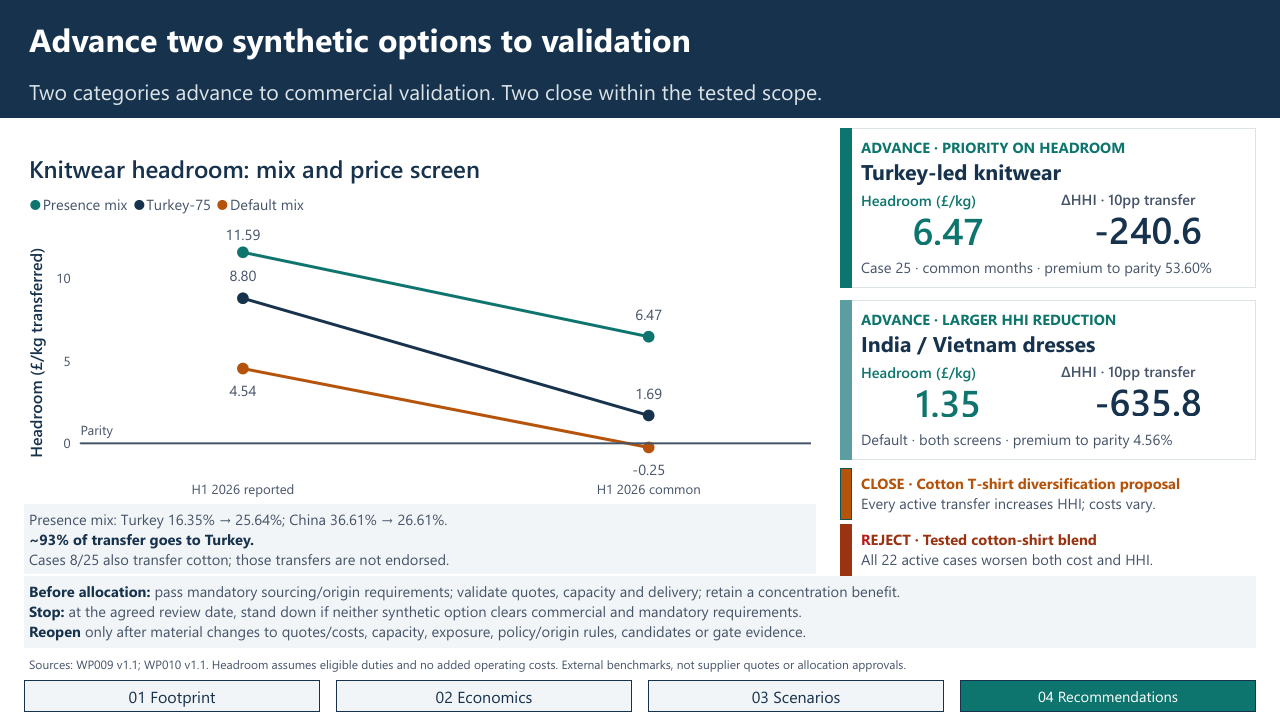

Layout of this report page (visuals, bound fields, positions):
{"tool":"powerbi","page":{"name":"04 Recommendations","canvas":[1280,720],"ordinal":4},"visuals":[{"type":"shape","box":[0,0,1280,118],"z":0},{"type":"shape","box":[840,300,416,160],"z":1000},{"type":"shape","box":[840,128,416,160],"z":2000},{"type":"textbox","box":[24,12,1232,60],"z":3000},{"type":"textbox","box":[24,72,1232.3,40],"z":4000},{"type":"pageNavigator","box":[24,680,1232,32],"z":5000},{"type":"card","title":"Headroom (£/kg)","fields":{"Values":["FactHeadroom.Headroom GBP per kg"]},"box":[856,190,184,60],"z":6000},{"type":"card","title":"Headroom (£/kg)","fields":{"Values":["FactHeadroom.Headroom GBP per kg"]},"box":[856,362,184,60],"z":7000},{"type":"textbox","box":[24,648,1232,30],"z":8000},{"type":"lineChart","title":"Knitwear headroom: mix and price screen","fields":{"Category":["FactHeadroom.Price basis"],"Y":["FactHeadroom.Knitwear Headroom Presence","FactHeadroom.Knitwear Headroom Turkey75","FactHeadroom.Knitwear Headroom Default"]},"box":[24,152,792,356],"z":9000},{"type":"shape","box":[840,128,12,160],"z":10000},{"type":"shape","box":[840,300,12,160],"z":11000},{"type":"card","title":"ΔHHI · 10pp transfer","fields":{"Values":["FactScenarioCategory.Category HHI Change"]},"box":[1056,189,184,60],"z":12000},{"type":"card","title":"ΔHHI · 10pp transfer","fields":{"Values":["FactScenarioCategory.Category HHI Change"]},"box":[1056,361,184,60],"z":13000},{"type":"textbox","box":[856,252,384,36],"z":14000},{"type":"textbox","box":[856,424,384,36],"z":15000},{"type":"textbox","box":[856,132,384,60],"z":16000},{"type":"textbox","box":[856,304,384,60],"z":17000},{"type":"textbox","box":[24,504,792,70],"z":18000},{"type":"textbox","box":[856,468,400,52],"z":19000},{"type":"textbox","box":[856,524,400,52],"z":20000},{"type":"textbox","box":[24,576,1232,72],"z":21000},{"type":"shape","box":[840,468,12,52],"z":22000},{"type":"shape","box":[840,524,12,52],"z":23000}]}

Visuals, with their boxes in screenshot pixels (x1, y1, x2, y2), scaled from the page's 1280x720 canvas onto the 1280x720 screenshot:
shape: x1=0, y1=0, x2=1279, y2=118
shape: x1=840, y1=300, x2=1256, y2=460
shape: x1=840, y1=128, x2=1256, y2=288
textbox: x1=24, y1=12, x2=1256, y2=72
textbox: x1=24, y1=72, x2=1256, y2=112
pageNavigator: x1=24, y1=680, x2=1256, y2=712
"Headroom (£/kg)" card: x1=856, y1=190, x2=1040, y2=250
"Headroom (£/kg)" card: x1=856, y1=362, x2=1040, y2=422
textbox: x1=24, y1=648, x2=1256, y2=678
"Knitwear headroom: mix and price screen" lineChart: x1=24, y1=152, x2=816, y2=508
shape: x1=840, y1=128, x2=852, y2=288
shape: x1=840, y1=300, x2=852, y2=460
"ΔHHI · 10pp transfer" card: x1=1056, y1=189, x2=1240, y2=249
"ΔHHI · 10pp transfer" card: x1=1056, y1=361, x2=1240, y2=421
textbox: x1=856, y1=252, x2=1240, y2=288
textbox: x1=856, y1=424, x2=1240, y2=460
textbox: x1=856, y1=132, x2=1240, y2=192
textbox: x1=856, y1=304, x2=1240, y2=364
textbox: x1=24, y1=504, x2=816, y2=574
textbox: x1=856, y1=468, x2=1256, y2=520
textbox: x1=856, y1=524, x2=1256, y2=576
textbox: x1=24, y1=576, x2=1256, y2=648
shape: x1=840, y1=468, x2=852, y2=520
shape: x1=840, y1=524, x2=852, y2=576
